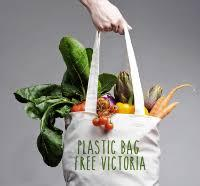Textile: (59, 15, 164, 186)
